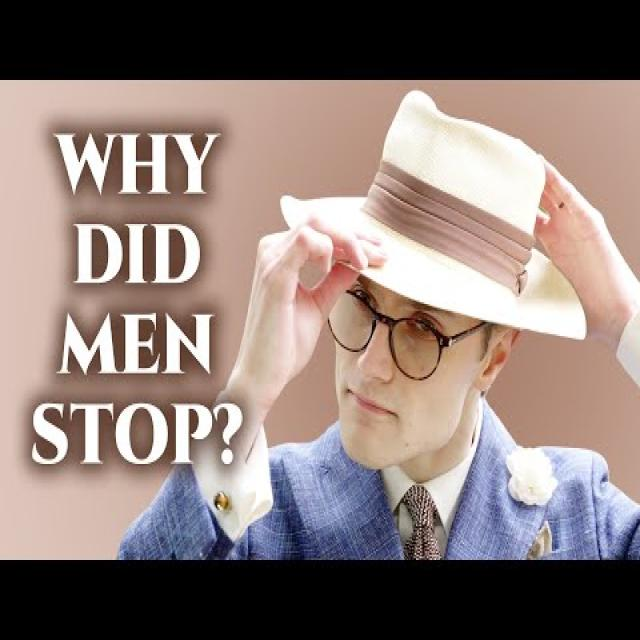hat: (280, 85, 591, 464)
